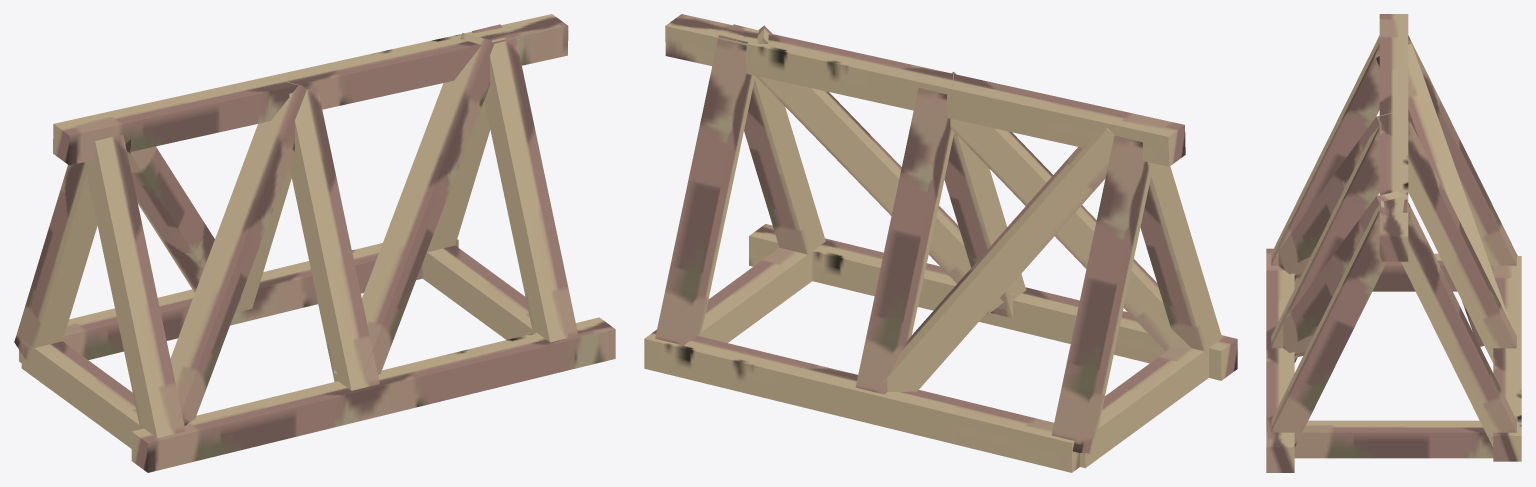
Rendered from Building_AncientCraneArm__RuinedCraneArm.glb.
3 views of the same model, side by side, from view 1: azimuth 30°, elevation 25°; view 2: azimuth 150°, elevation 25°; view 3: azimuth 270°, elevation 25° (orthographic). The views are drawn at different scales.
Parts seen in each view (by area): view 1: AncientCraneArm; view 2: AncientCraneArm; view 3: AncientCraneArm.
Boxes of the visible parts, <box> form: AncientCraneArm: <box>14,14,615,472</box>; AncientCraneArm: <box>644,14,1237,472</box>; AncientCraneArm: <box>1266,14,1521,472</box>.
Bounding box in the file's own units: 1.77 × 0.99 × 0.9.
Materials: 1 (1 with a texture image).
